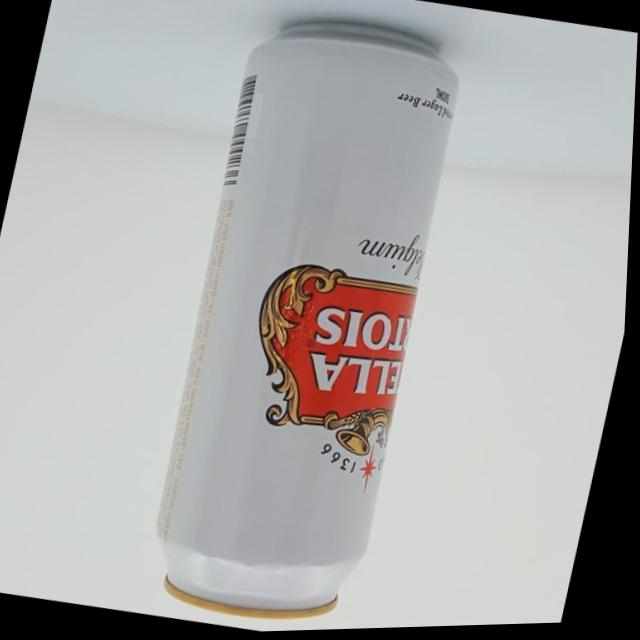metal: (158, 19, 457, 616)
